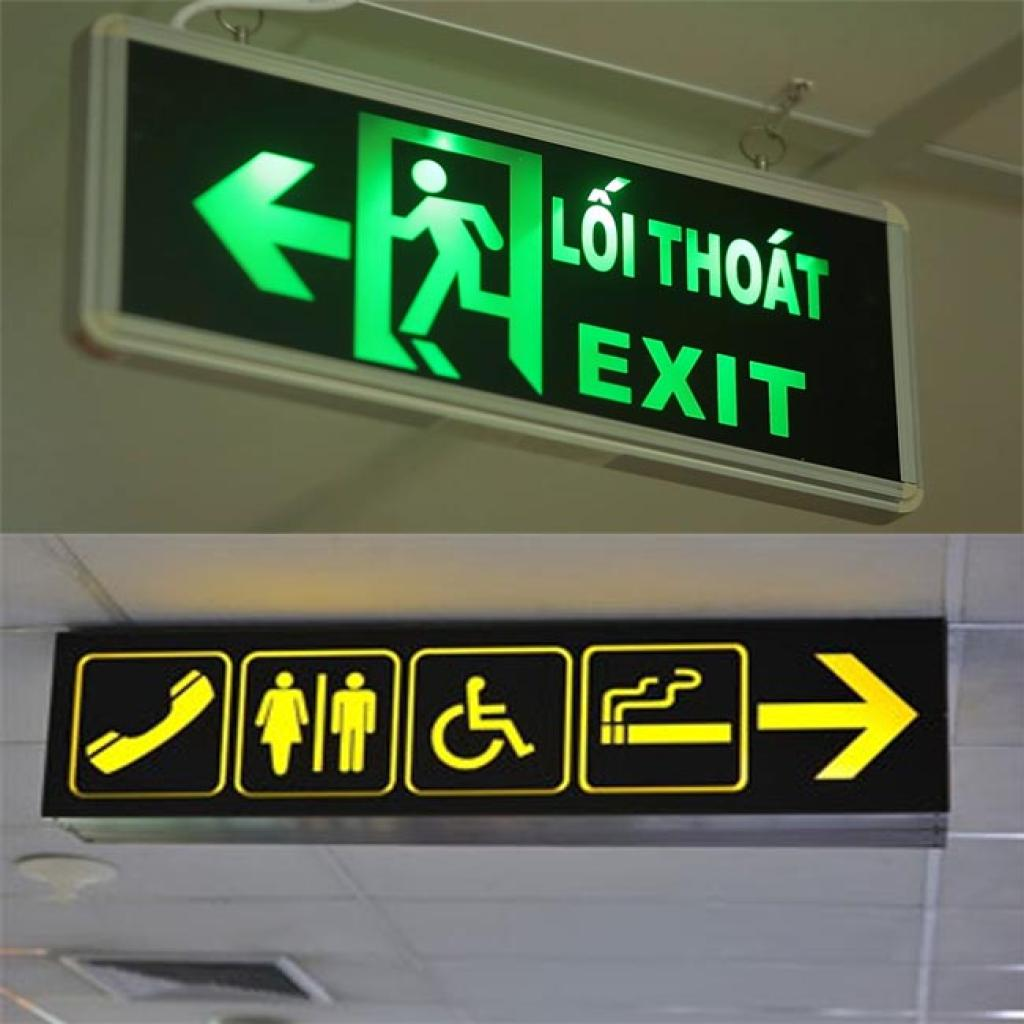text: (647, 199, 843, 332), (552, 166, 644, 286)
